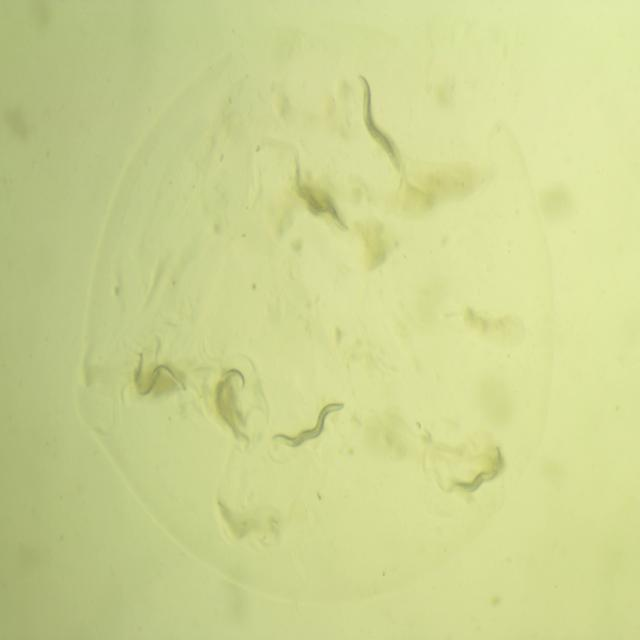worm: (352, 61, 411, 187), (264, 393, 352, 469), (288, 154, 351, 238), (207, 354, 257, 451), (124, 343, 193, 411), (444, 437, 508, 505)
